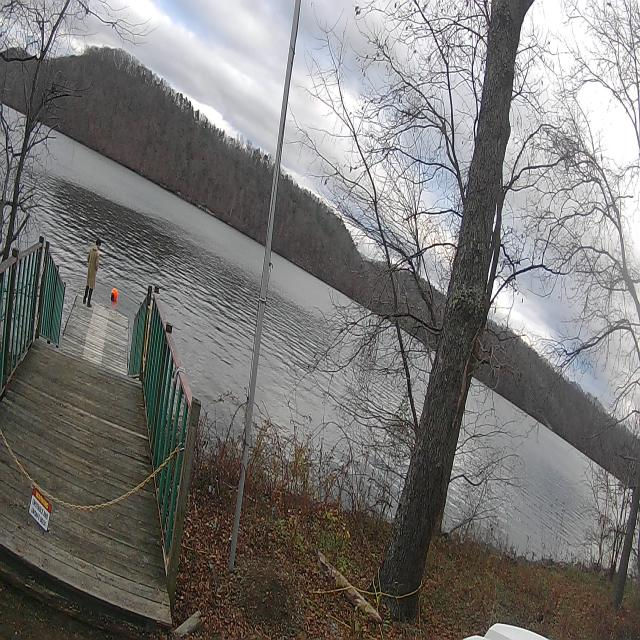Buoy: (108, 277, 122, 308)
